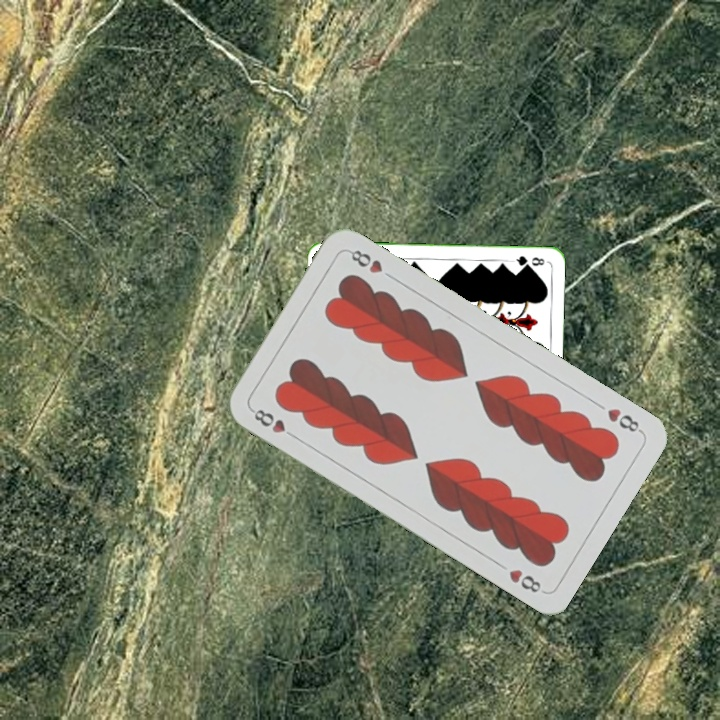G8: (508, 252, 547, 269)
H8: (247, 404, 300, 442), (603, 404, 645, 436)
